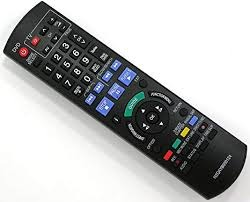remote control: (0, 0, 248, 202)
